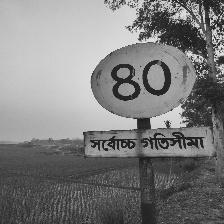Speed-limit: (82, 40, 213, 158)
